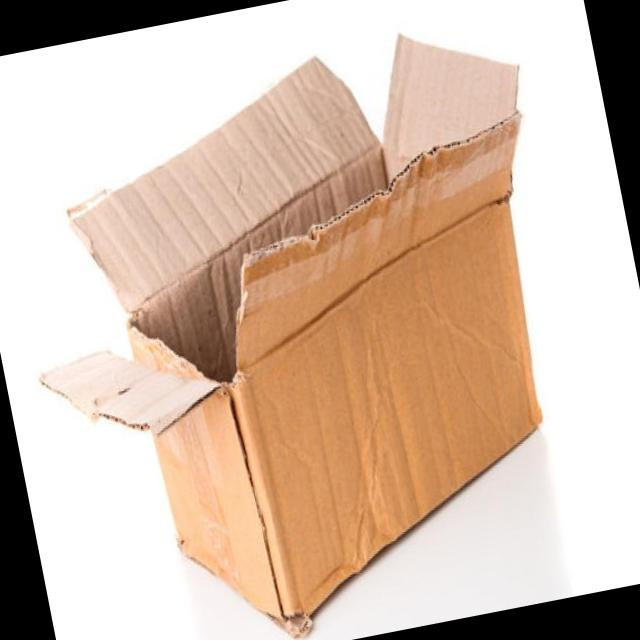box: (37, 32, 543, 640)
opened: (38, 33, 543, 436)
tear: (97, 319, 219, 391)
